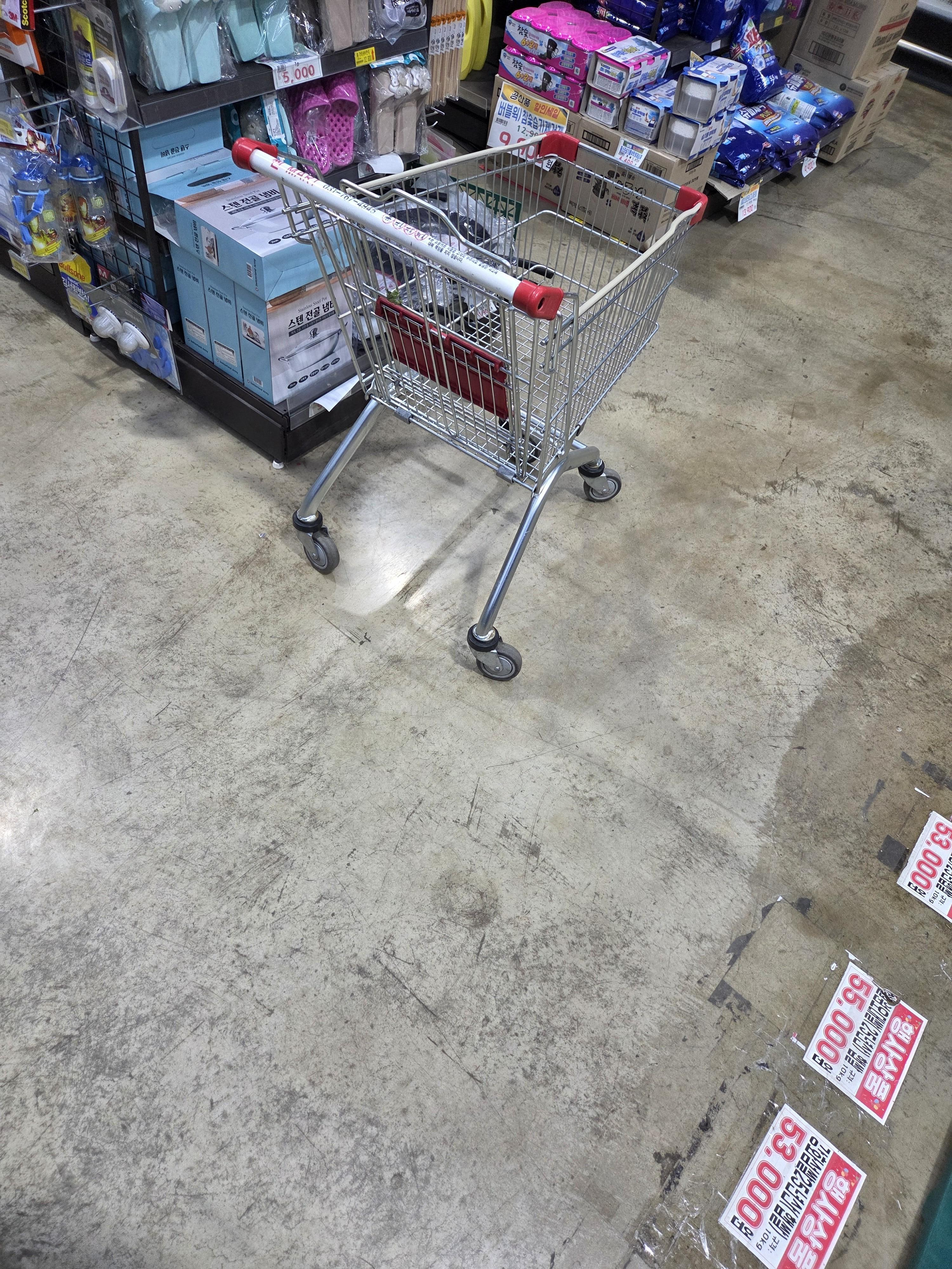empty_cart: (237, 129, 712, 685)
